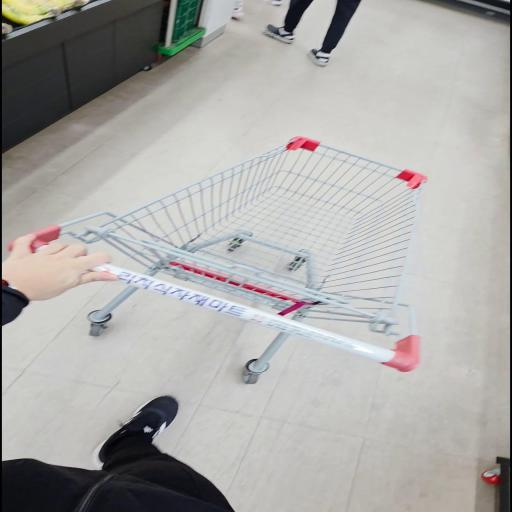empty_cart: (12, 135, 428, 386)
